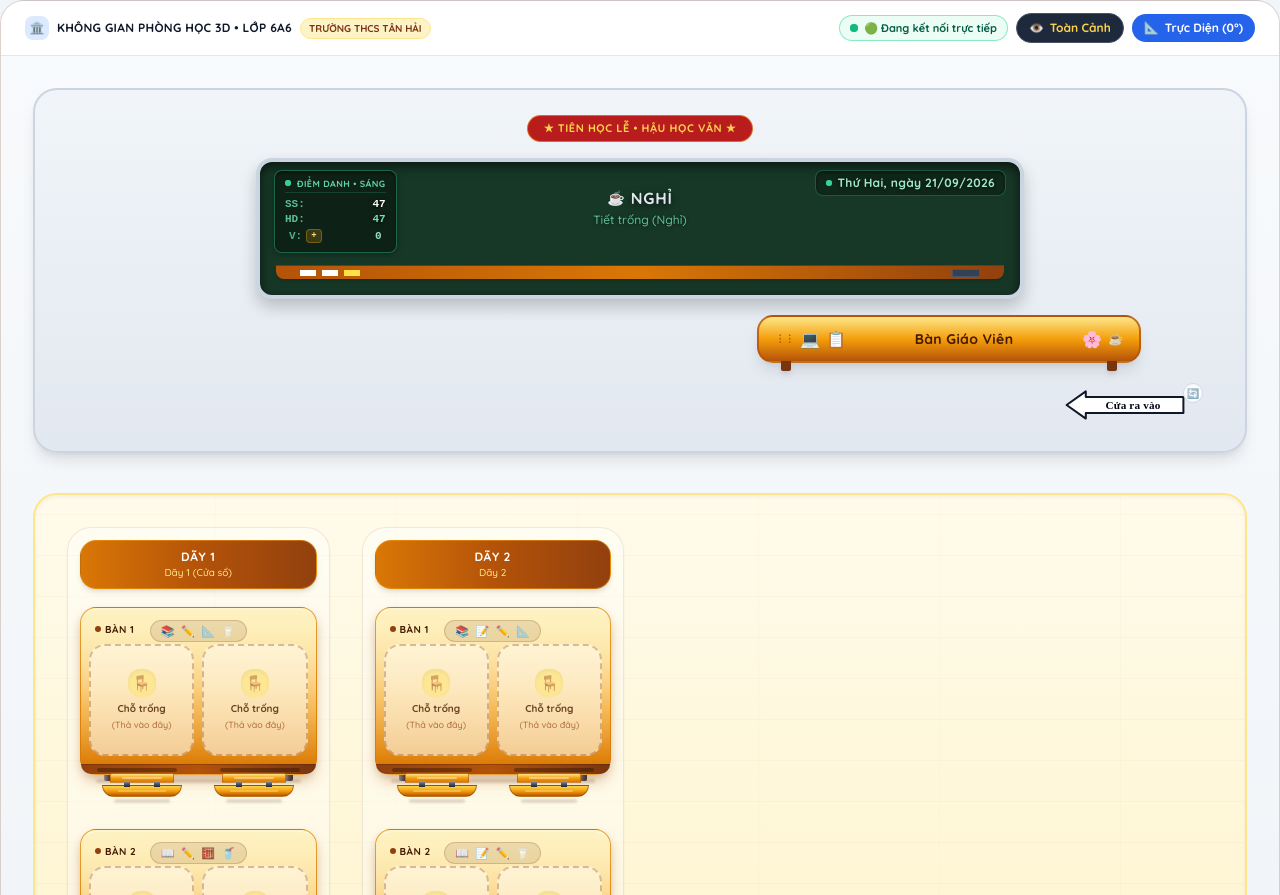
Test: Classroom3DScene Real-time Attendance & Date Tests › mở hộp thoại Ghi nhận vắng nhanh 1-chạm khi bấm vào ô số V trên bảng
The width and height of the screenshot is (1280, 895).
Bấm vào ô số V
Click the element titled "Chạm trực tiếp vào ô số V để ghi nhận vắng nhanh" at (296, 236), box [285,227,386,246]
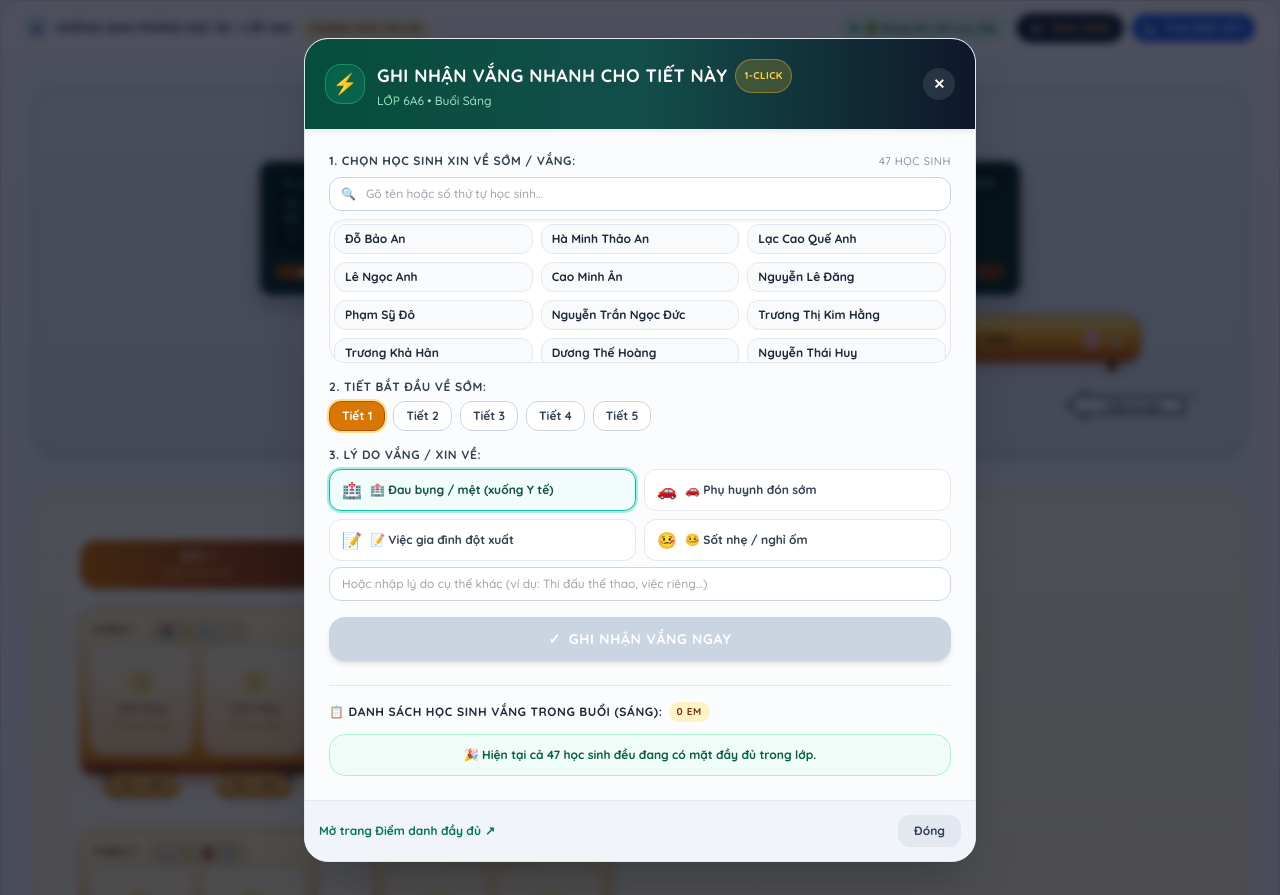
Expected: the text "Ghi Nhận Vắng Nhanh Cho Tiết Này" is shown, [377,62,727,90]
